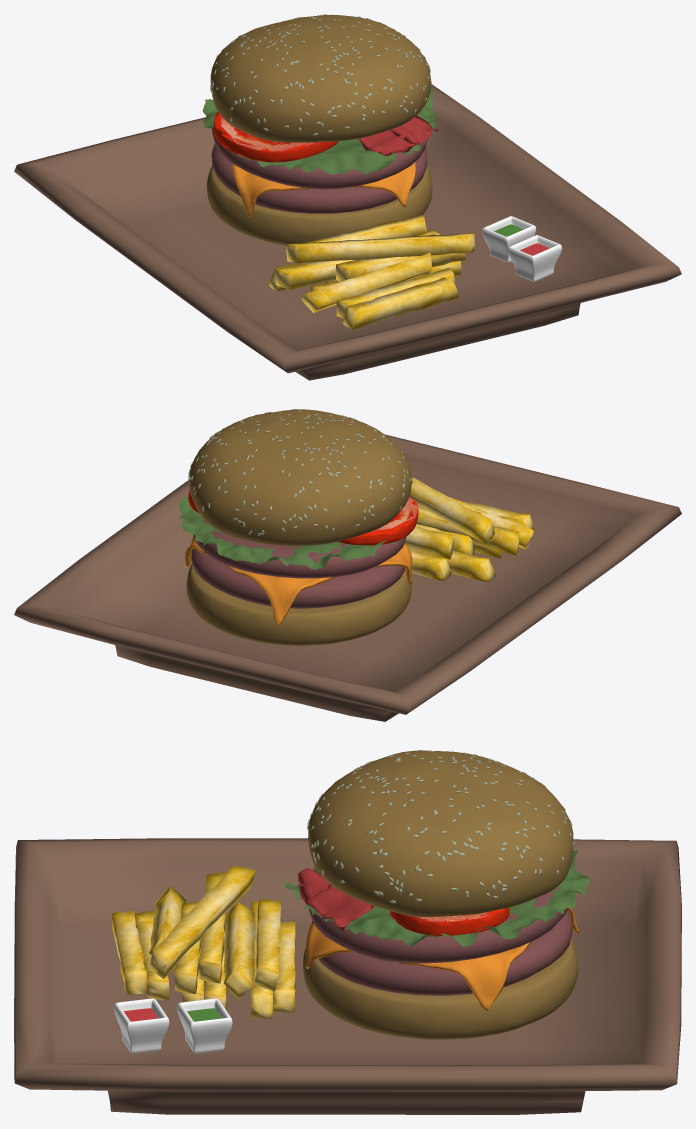
Rendered from menu2.glb.
3 renders of one model, top to bottom at view 1: azimuth 30°, elevation 25°; view 2: azimuth 150°, elevation 25°; view 3: azimuth 270°, elevation 25°, orthographic. The views are drawn at different scales.
Parts seen in each view (by area): view 1: plato, Cylinder002_7, Cube073, Cylinder002_2, Cylinder002, Cylinder002_3, Cylinder002_8, Cylinder002_1, Cylinder002_4, Cylinder002_5, Cube002, Cube073_1 (+2 smaller); view 2: plato, Cylinder002_7, Cylinder002, Cylinder002_2, Cube073, Cylinder002_3, Cylinder002_1, Cylinder002_8, Cylinder002_5, Cube073_1, Cylinder002_6; view 3: plato, Cylinder002_7, Cube073, Cylinder002, Cylinder002_2, Cube073_1, Cylinder002_3, Cylinder002_1, Cylinder002_8, Cylinder002_4, Cube002, Cube003 (+1 smaller).
Boxes of the visible parts, x1,y1,x2,y2 form: plato: (14,84,681,380); Cylinder002_7: (210,14,430,142); Cube073: (276,215,474,329); Cylinder002_2: (211,127,427,213); Cylinder002: (206,165,432,245); Cylinder002_3: (202,87,437,174); Cylinder002_8: (210,14,431,135); Cylinder002_1: (231,162,415,216); Cylinder002_4: (358,115,438,155); Cylinder002_5: (213,112,338,162); Cube002: (507,235,562,281); Cube073_1: (269,227,475,329); plato: (14,434,681,721); Cylinder002_7: (189,409,411,545); Cylinder002: (186,563,411,645); Cylinder002_2: (191,517,406,608); Cube073: (404,477,533,582); Cylinder002_3: (179,497,396,569); Cylinder002_1: (184,536,412,625); Cylinder002_8: (188,409,412,535); Cylinder002_5: (188,490,418,545); Cube073_1: (438,513,534,582); Cylinder002_6: (189,489,417,531); plato: (14,838,681,1114); Cylinder002_7: (308,750,573,917); Cube073: (112,865,295,1015); Cylinder002: (303,939,578,1039); Cylinder002_2: (309,887,572,995); Cube073_1: (125,948,295,1018); Cylinder002_3: (284,850,589,946); Cylinder002_1: (305,908,579,1011); Cylinder002_8: (307,750,574,903); Cylinder002_4: (297,868,374,930); Cube002: (113,998,169,1053); Cube003: (177,998,232,1053).
Size of the model in its own units: 0.4291 by 0.22 by 0.5033.
Materials: 16 (3 with a texture image).
